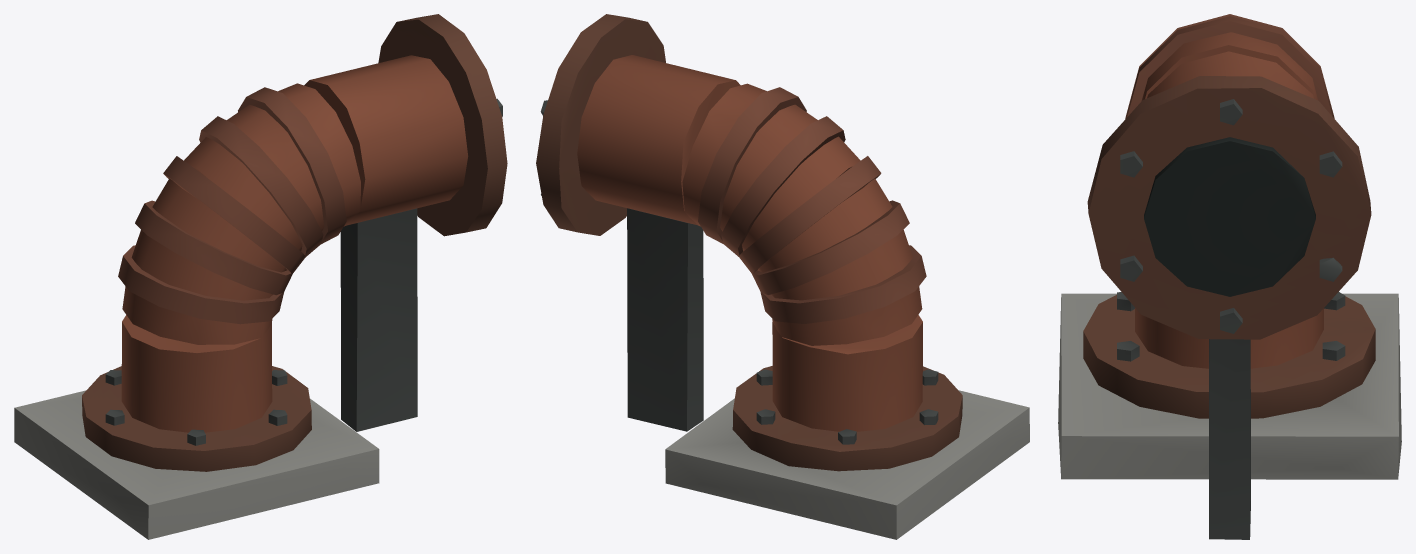
Rendered from pump_elbow_a_lod1.glb.
3 renders of one model, left to right at view 1: azimuth 30°, elevation 25°; view 2: azimuth 150°, elevation 25°; view 3: azimuth 270°, elevation 25°, orthographic. The views are drawn at different scales.
Visible parts, largest first — view 1: Surface.001; view 2: Surface.001; view 3: Surface.001.
Part boxes in pixels (bbox=[...]): Surface.001: bbox=[14, 14, 507, 539]; Surface.001: bbox=[536, 14, 1029, 539]; Surface.001: bbox=[1058, 14, 1401, 539].
Size of the model in its own units: 3.55 by 3.39 by 2.2.
